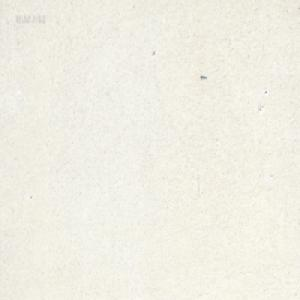Nail: (200, 74, 207, 79)
